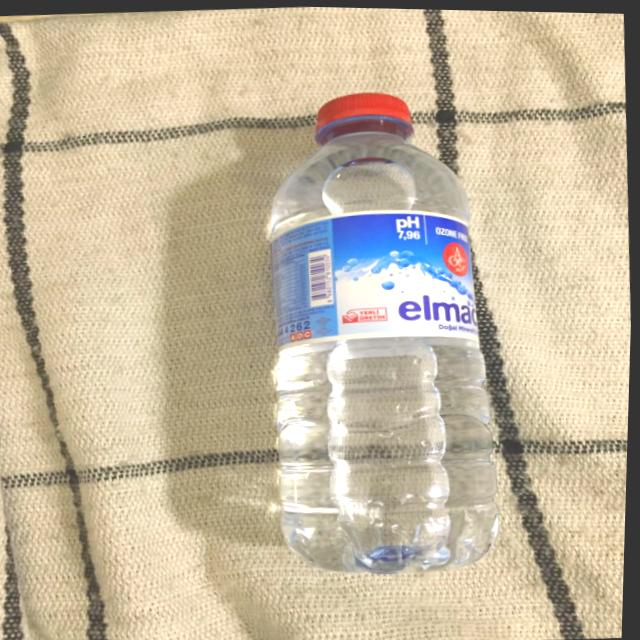anorganik: (276, 92, 487, 566)
